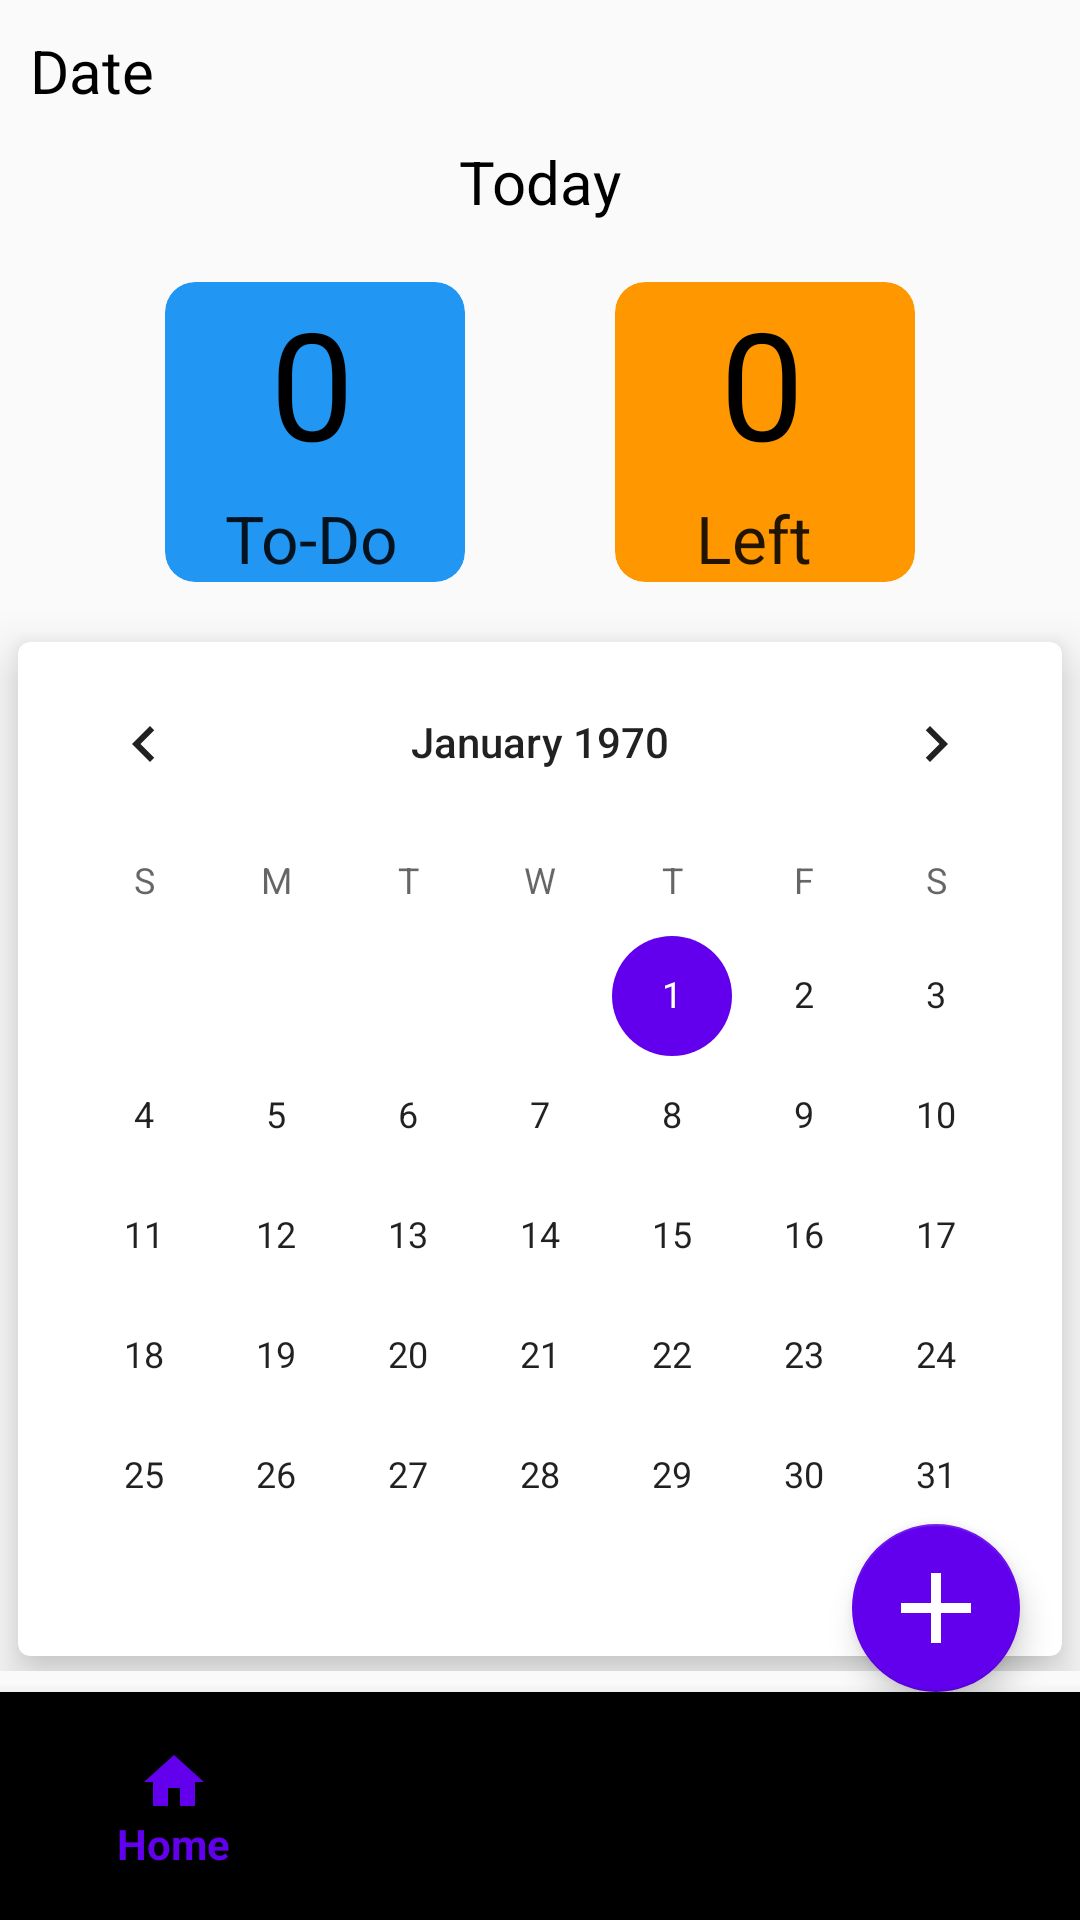

Where icons sit on this 1080px×1920px app screen, as (x1, y1, x2, y2):
add: (852, 1524, 1020, 1692)
